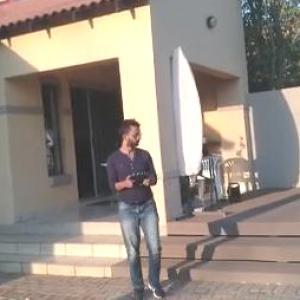follow: (106, 117, 169, 299)
